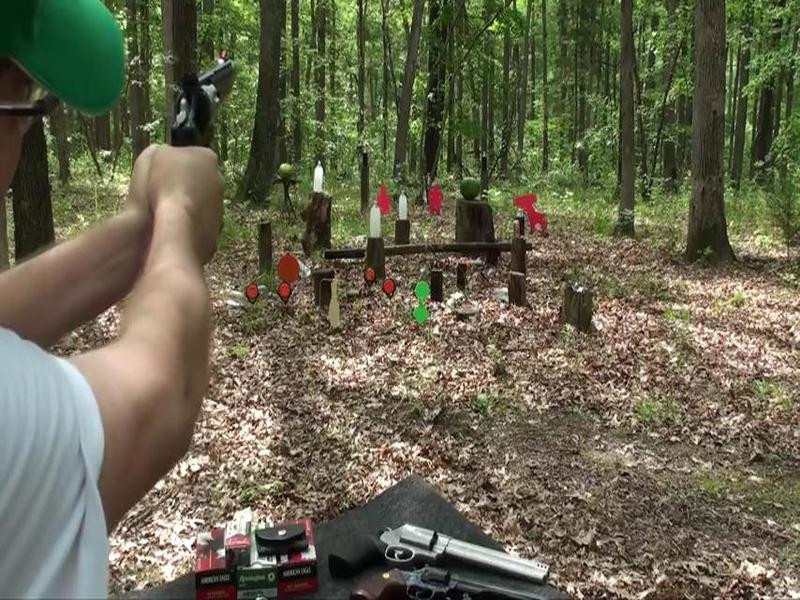Revolver: (158, 44, 252, 178)
